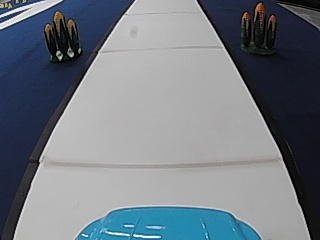corn: (237, 0, 278, 55), (42, 9, 83, 61)
